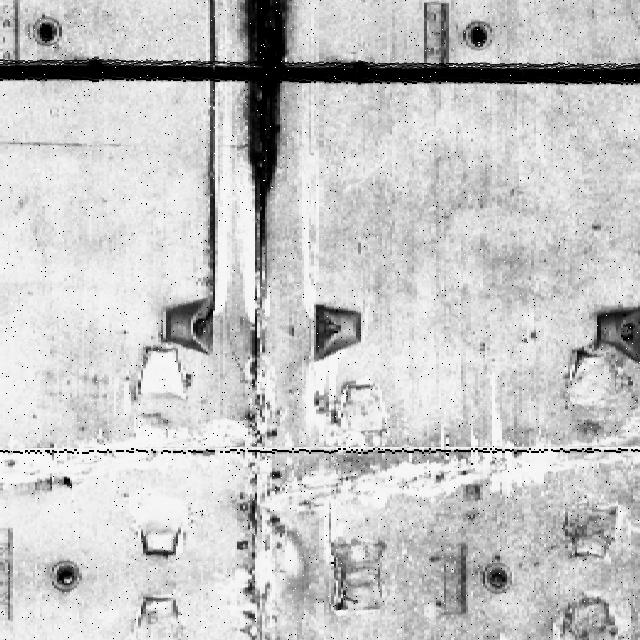leakage: (230, 0, 306, 283)
